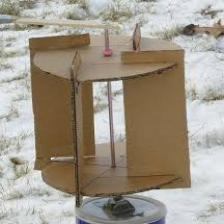cardboard: (20, 24, 214, 208)
